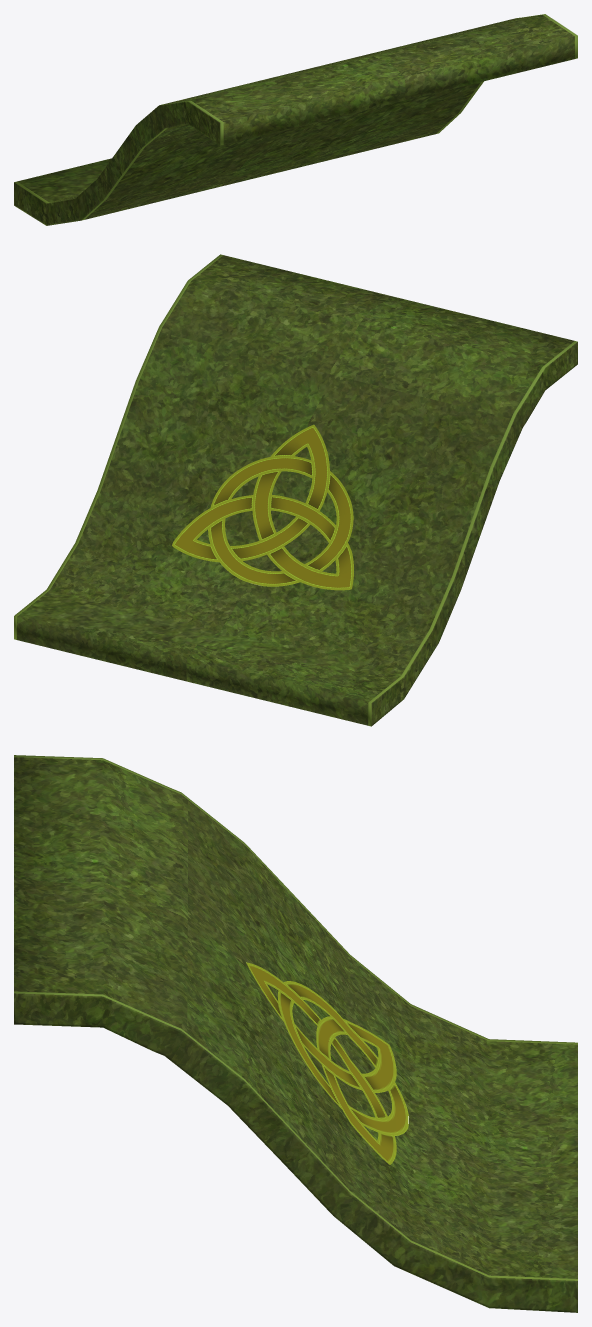
The model's file is mountain_slope3.gltf.
The picture shows the model from 3 angles, top to bottom: view 1: azimuth 30°, elevation 25°; view 2: azimuth 150°, elevation 25°; view 3: azimuth 270°, elevation 25°; orthographic projection. The views are drawn at different scales.
Visible parts, largest first — view 1: mountain_slope3_glb; view 2: mountain_slope3_glb; view 3: mountain_slope3_glb.
Part boxes in pixels (x1=…): mountain_slope3_glb: x1=14, y1=14, x2=577, y2=225; mountain_slope3_glb: x1=14, y1=254, x2=577, y2=726; mountain_slope3_glb: x1=14, y1=755, x2=577, y2=1312.
Size of what is drawn, in the model's own units: 4 by 2.5 by 4.
2 materials, 2 textured.
